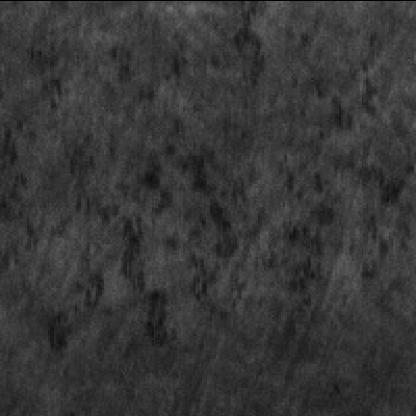rolled-in_scale: (44, 127, 266, 351), (26, 9, 302, 114), (285, 102, 412, 322)
